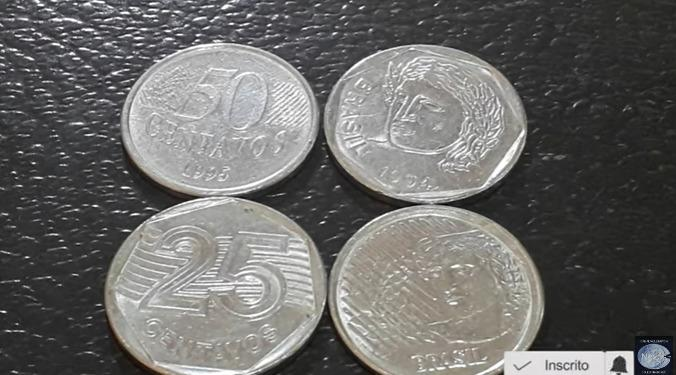25 cent: (328, 205, 546, 375), (111, 204, 327, 375)
50 cent: (113, 40, 325, 201), (328, 42, 534, 206)
